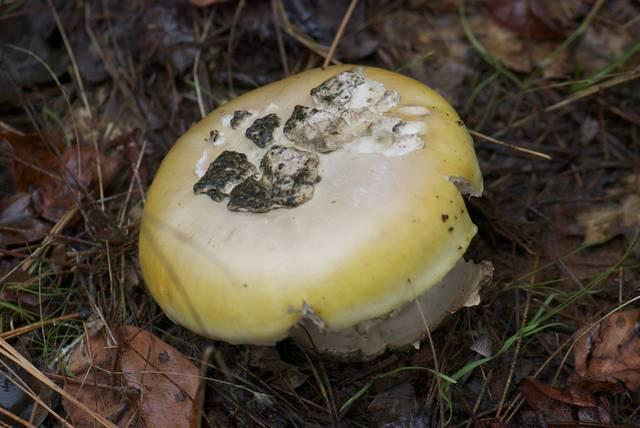Edible Mushroom: (136, 62, 494, 361)
